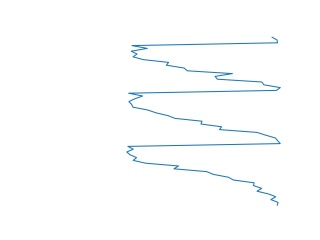distributaryMouthBar: (123, 35, 287, 209)
